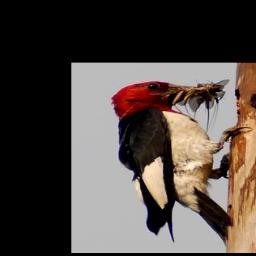Woodpecker: (112, 80, 251, 244)
